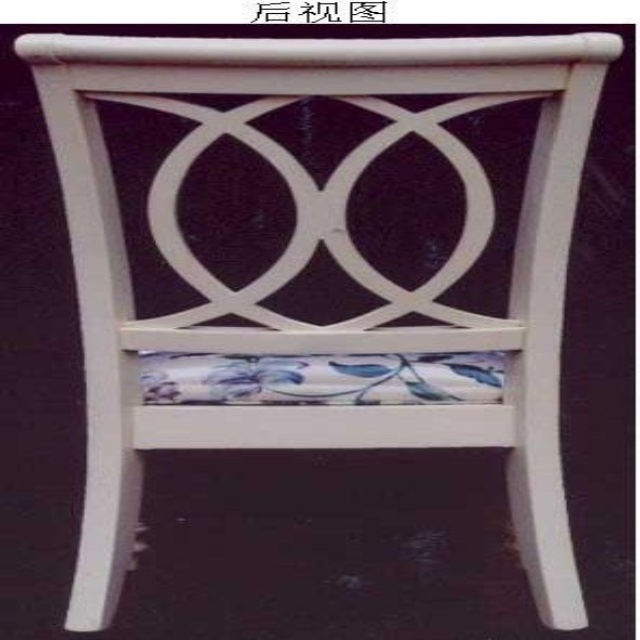obstacle: (15, 32, 621, 630)
